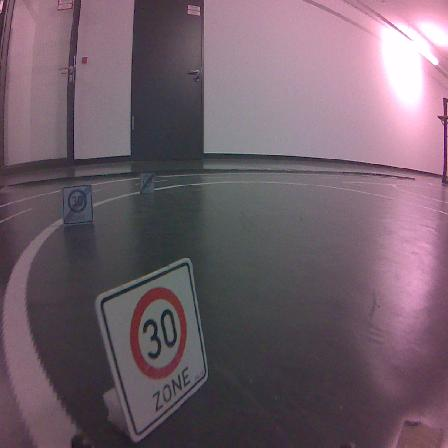30_ZONE_BEGIN: (96, 258, 208, 440)
30_ZONE_END: (61, 185, 93, 224)
